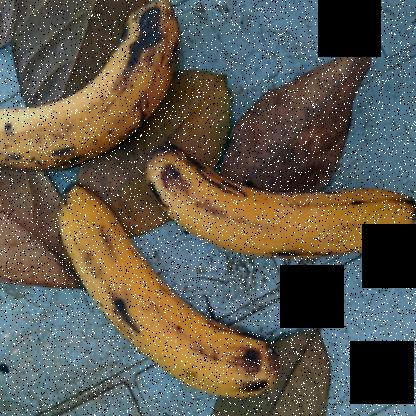overripe: (147, 136, 415, 296), (1, 0, 183, 187)
ripe: (45, 164, 290, 411)
